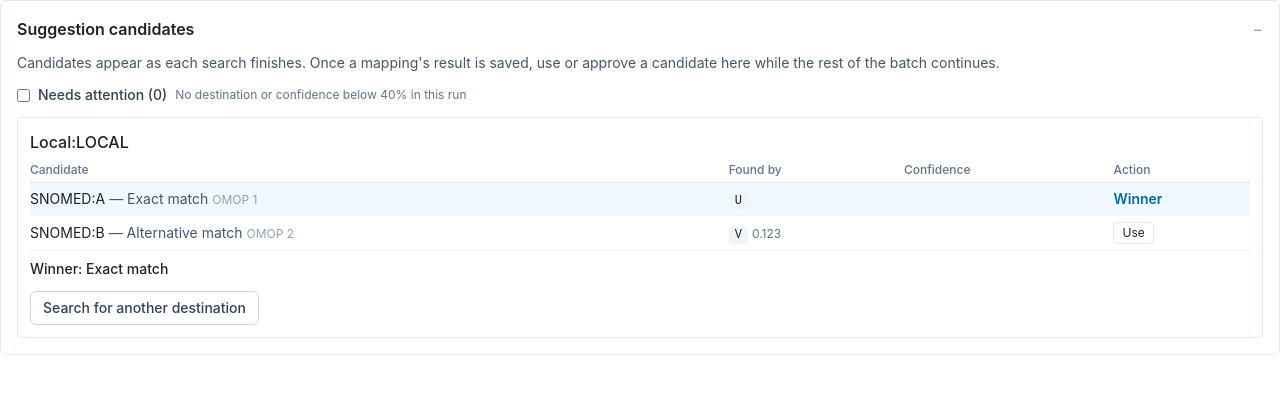
Test: progressive suggestion candidates › shows candidates as they arrive, then the winner and selectable alternatives
This screenshot has width=1280, height=398.
Check: the text "— Exact match" is shown, box [109, 190, 208, 207]
Check: the text "0.123" is shown, box [752, 226, 781, 241]
Click the button with aria-label "Use Alternative match for LOCAL" at [1134, 233], box [1114, 222, 1154, 244]
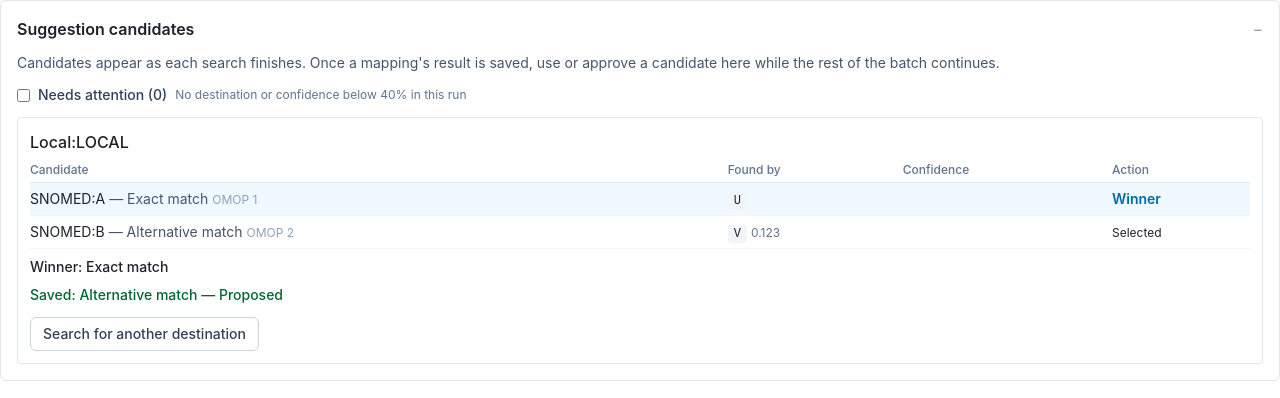
Check: the text "Selected" is shown, box [1112, 225, 1162, 240]
